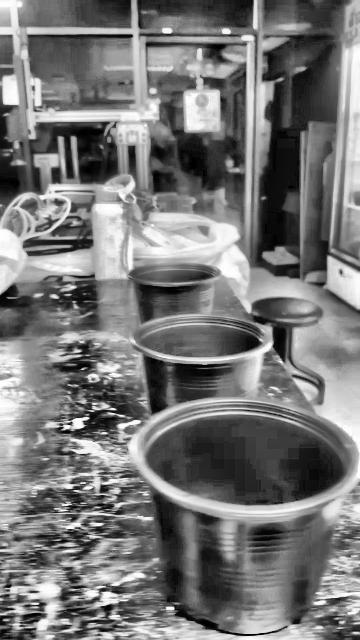pot: (132, 400, 359, 633), (132, 315, 271, 414), (129, 263, 221, 322)
